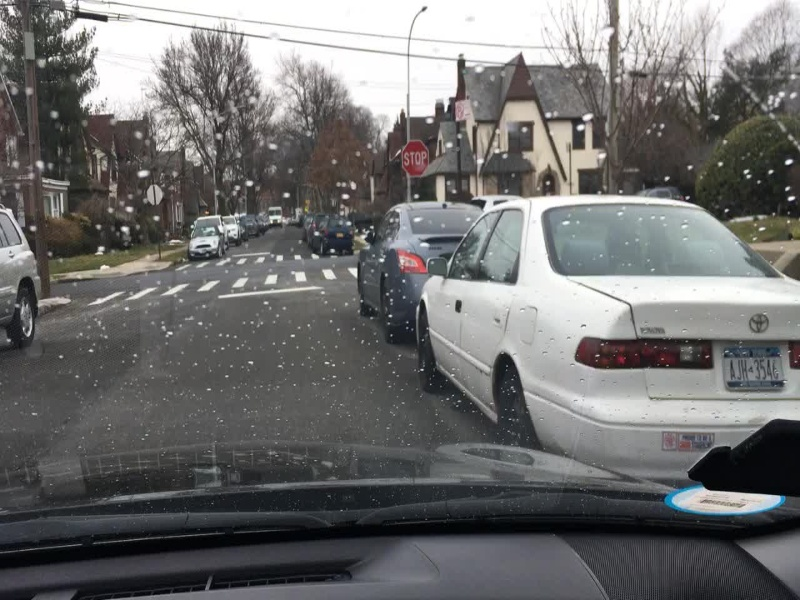car: (413, 180, 797, 453), (328, 186, 489, 362), (1, 189, 34, 352), (315, 216, 358, 252), (183, 225, 223, 259), (219, 214, 242, 238), (263, 204, 284, 225)
